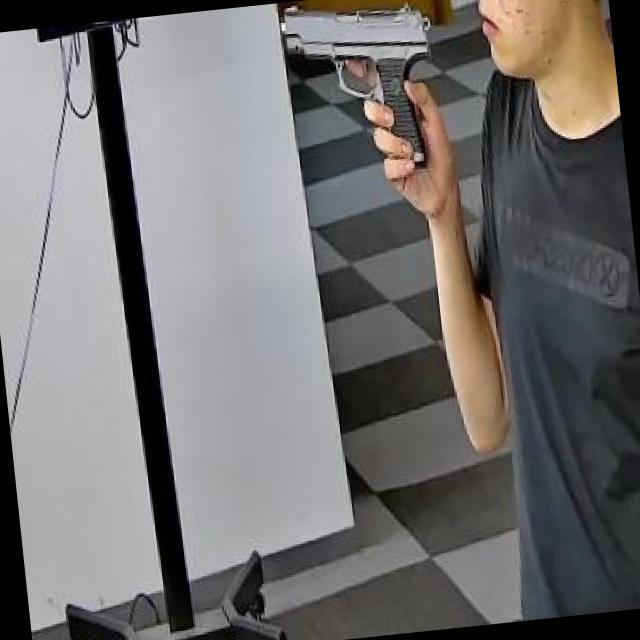Guns: (260, 0, 477, 229)
